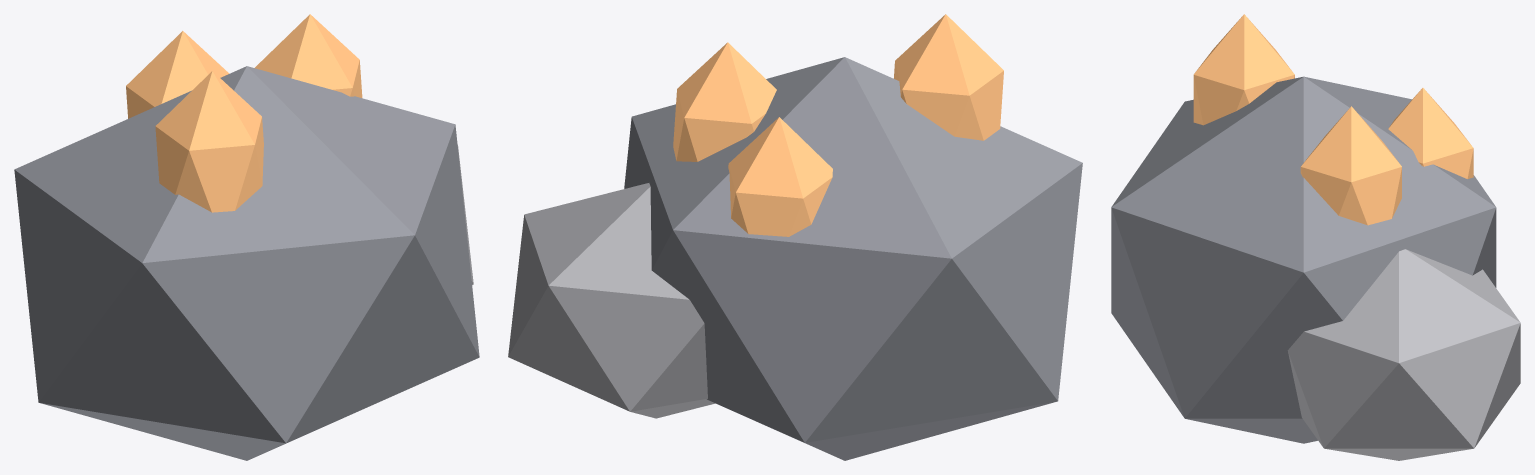
File: iron_node.glb
The picture shows the model from 3 angles, left to right: view 1: azimuth 30°, elevation 25°; view 2: azimuth 150°, elevation 25°; view 3: azimuth 270°, elevation 25°; orthographic projection. The views are drawn at different scales.
Visible parts, largest first — view 1: IronNodeRock, IronNodeCrystal0, IronNodeCrystal1, IronNodeCrystal2; view 2: IronNodeRock, IronNodeRock2, IronNodeCrystal0, IronNodeCrystal2, IronNodeCrystal1; view 3: IronNodeRock, IronNodeRock2, IronNodeCrystal1, IronNodeCrystal0, IronNodeCrystal2.
Boxes of the visible parts, x1=… form: IronNodeRock: x1=14, y1=66, x2=479, y2=460; IronNodeCrystal0: x1=155, y1=71, x2=263, y2=212; IronNodeCrystal1: x1=255, y1=14, x2=362, y2=97; IronNodeCrystal2: x1=126, y1=31, x2=229, y2=118; IronNodeRock: x1=624, y1=57, x2=1082, y2=460; IronNodeRock2: x1=508, y1=183, x2=715, y2=418; IronNodeCrystal0: x1=894, y1=14, x2=1003, y2=140; IronNodeCrystal2: x1=728, y1=117, x2=832, y2=236; IronNodeCrystal1: x1=673, y1=42, x2=776, y2=161; IronNodeRock: x1=1111, y1=76, x2=1496, y2=443; IronNodeRock2: x1=1287, y1=249, x2=1520, y2=460; IronNodeCrystal1: x1=1300, y1=106, x2=1401, y2=225; IronNodeCrystal0: x1=1193, y1=14, x2=1294, y2=125; IronNodeCrystal2: x1=1388, y1=88, x2=1473, y2=178.
Size of the model in its own units: 0.8482 by 0.74 by 0.6874.
